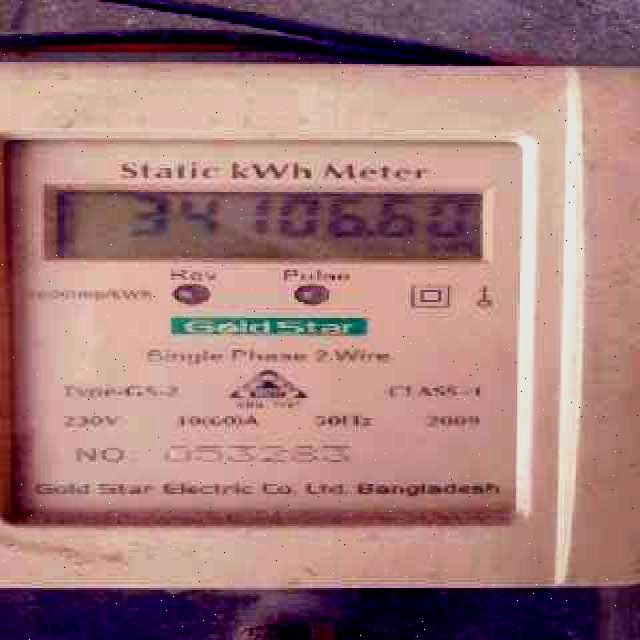LCD: (30, 179, 508, 267)
